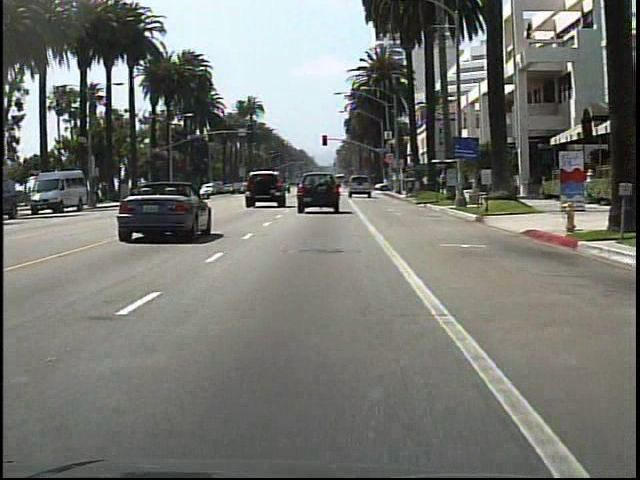person: (559, 170, 576, 210)
